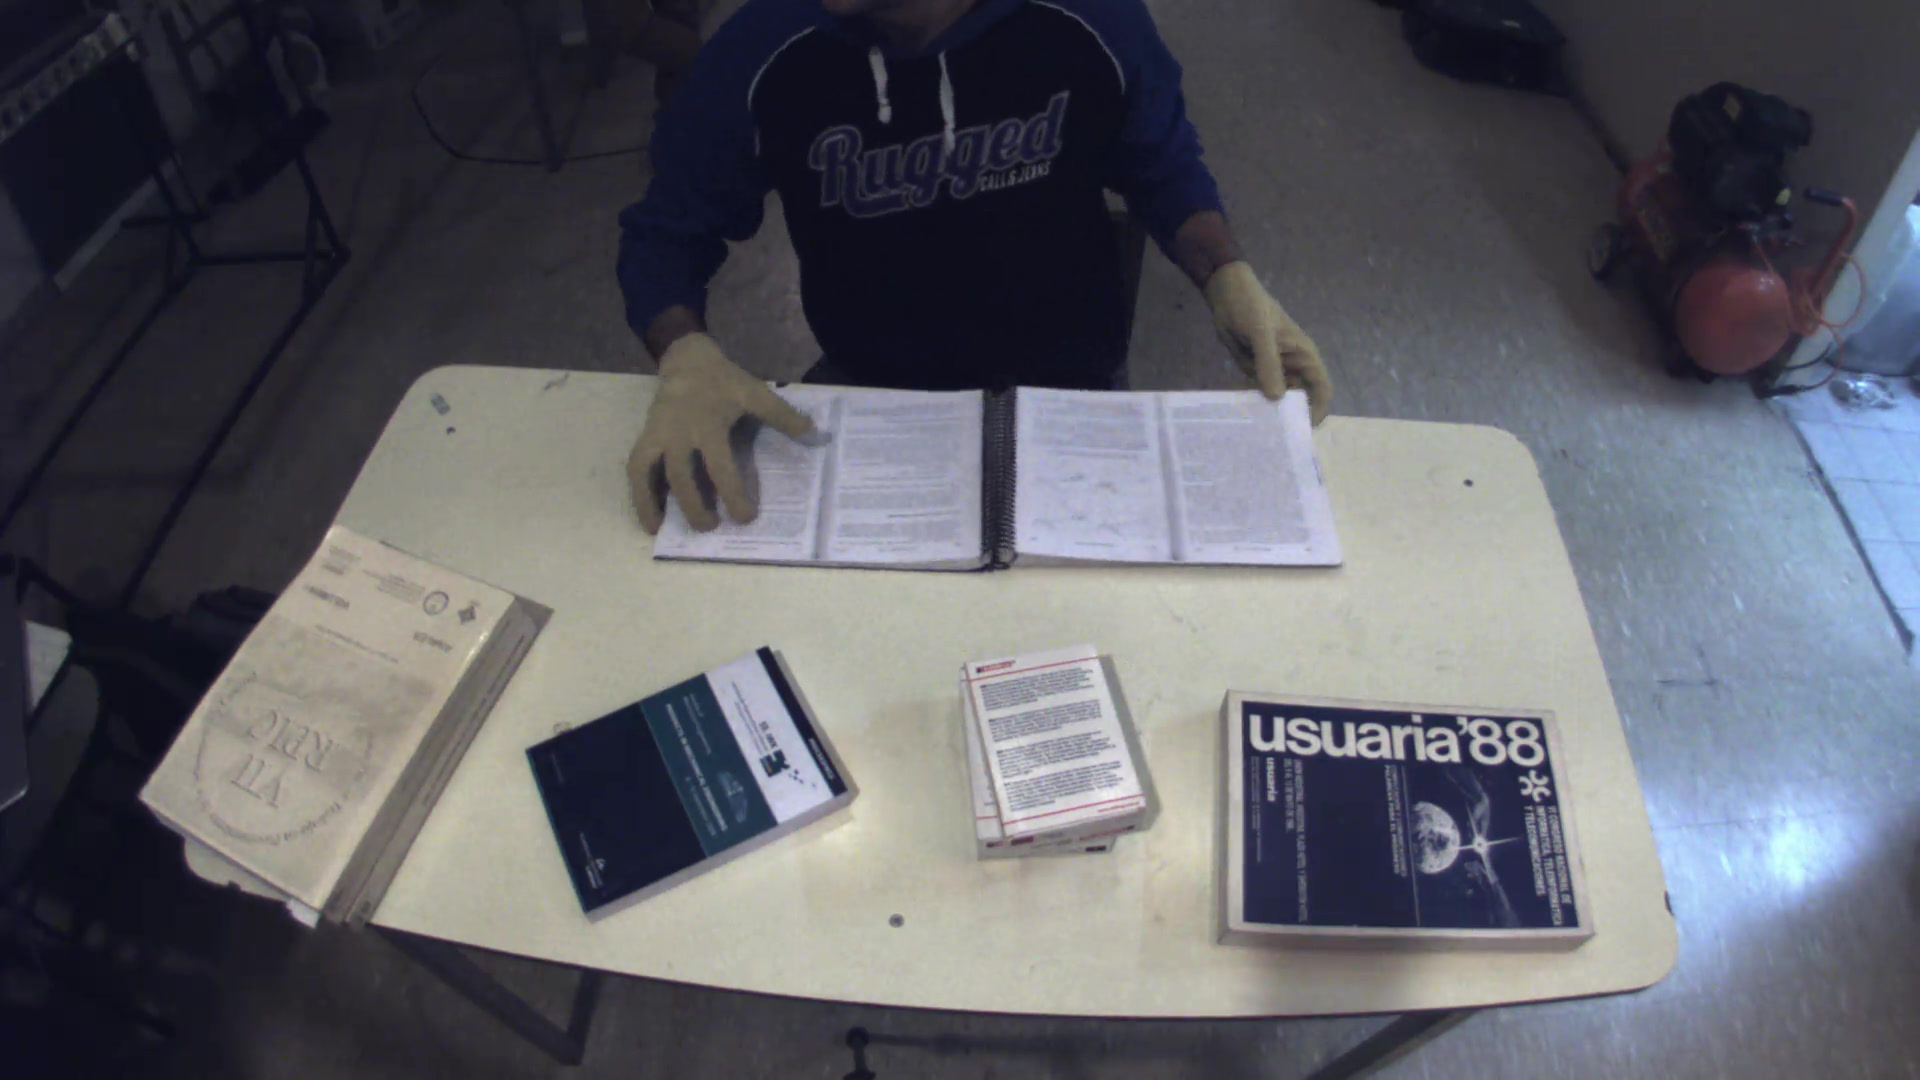hand: (604, 324, 835, 534), (1203, 248, 1350, 413)
